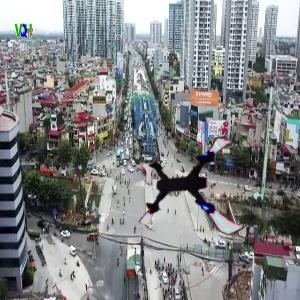drone: (141, 129, 251, 239)
